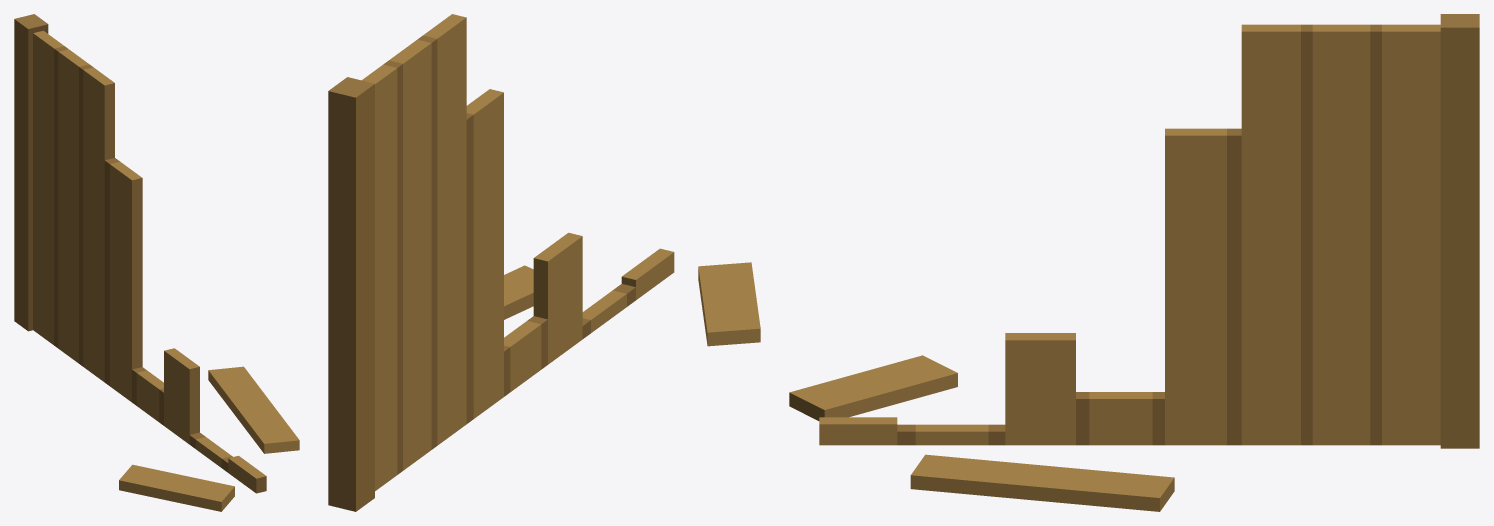
Rendered from Fence_Wood_Damaged_02.fbx.
The picture shows the model from 3 angles, left to right: view 1: azimuth 30°, elevation 25°; view 2: azimuth 150°, elevation 25°; view 3: azimuth 270°, elevation 25°; orthographic projection. The views are drawn at different scales.
Visible parts, largest first — view 1: Fence_Wood_Damaged_02; view 2: Fence_Wood_Damaged_02; view 3: Fence_Wood_Damaged_02.
Boxes of the visible parts, bbox=[...] form: Fence_Wood_Damaged_02: bbox=[14, 14, 299, 511]; Fence_Wood_Damaged_02: bbox=[328, 14, 760, 511]; Fence_Wood_Damaged_02: bbox=[789, 14, 1479, 511].
Bounding box in the file's own units: 2.17 × 4.43 × 2.98.
